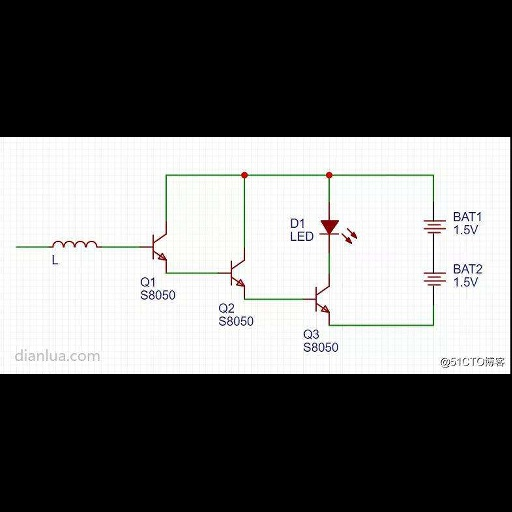battery: (417, 268, 448, 289), (420, 215, 448, 237)
firstled: (316, 214, 361, 247)
inductor: (47, 237, 103, 252)
npn: (305, 278, 339, 316), (144, 229, 174, 262), (225, 256, 248, 289)
